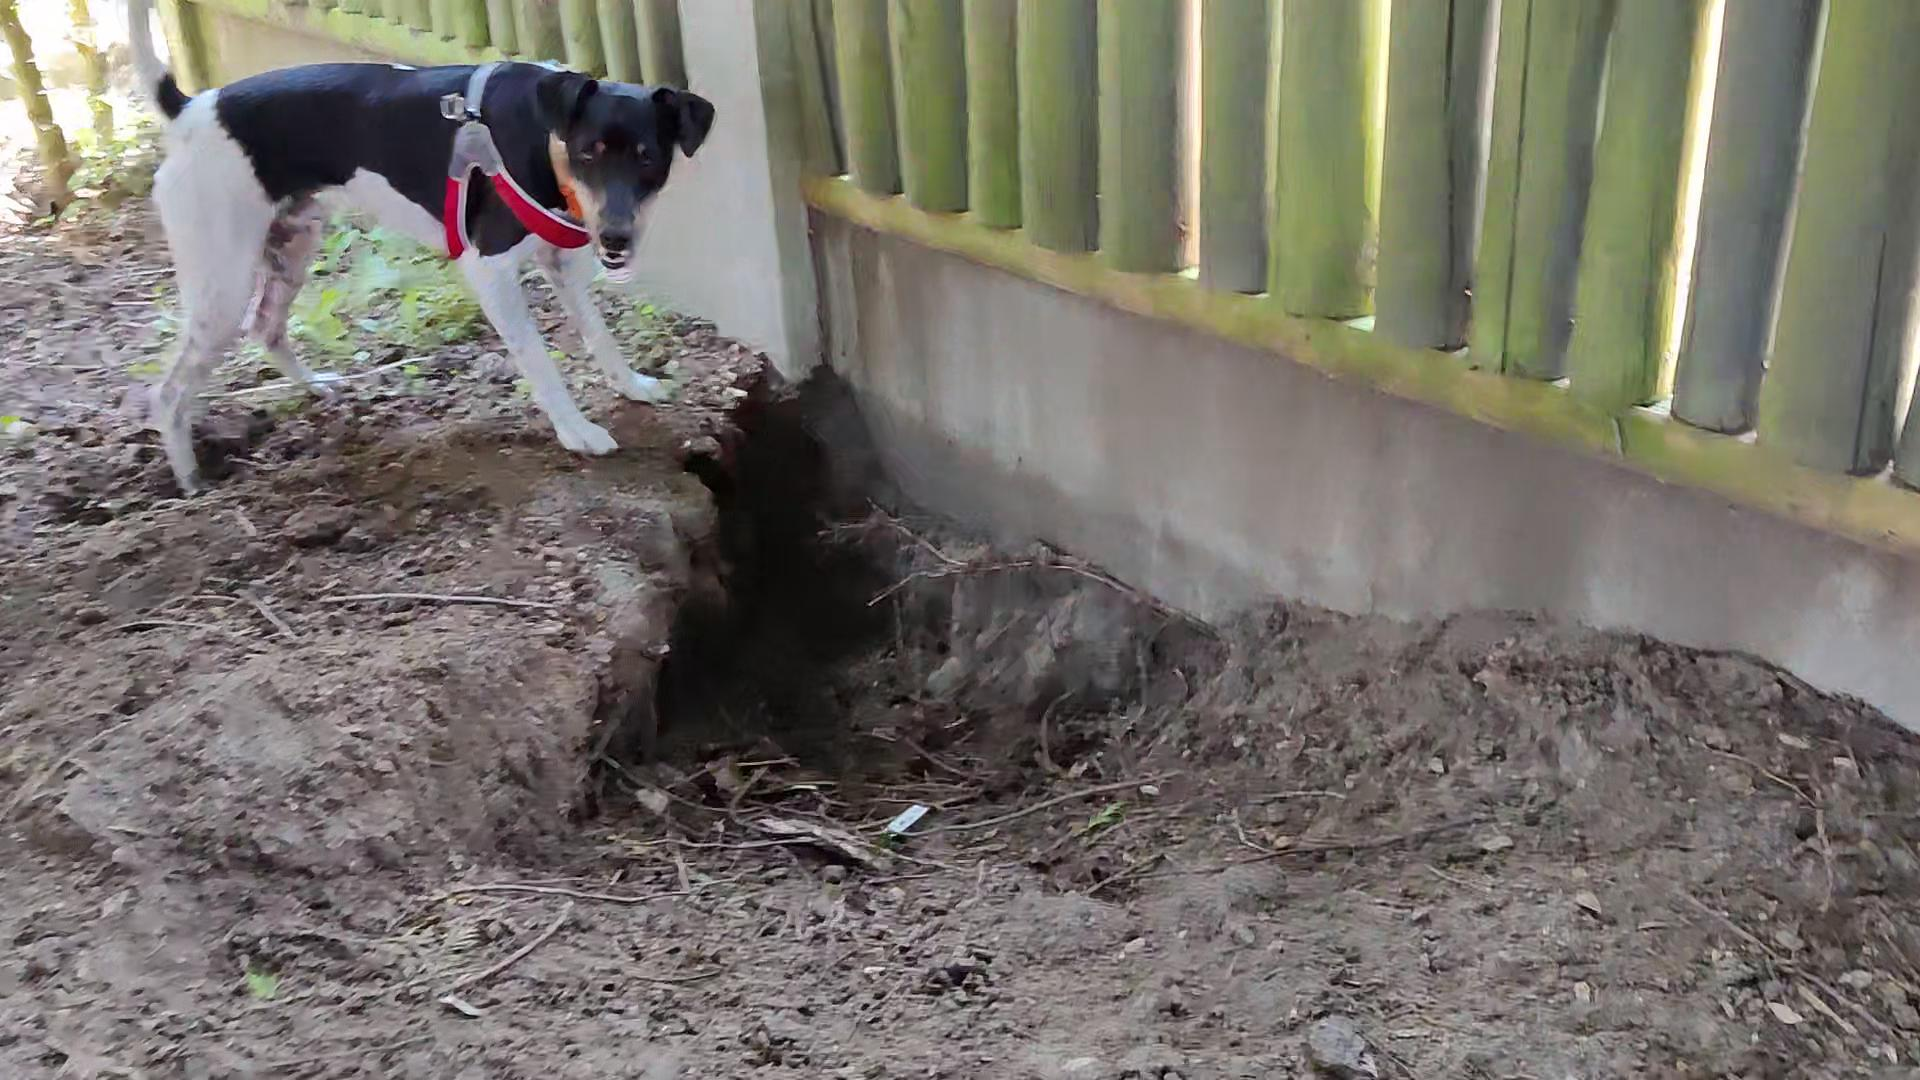Dog: (109, 0, 728, 502)
